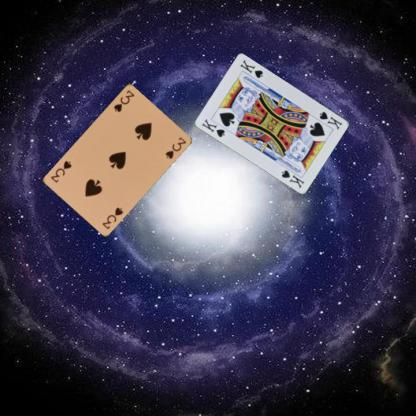3s: (111, 87, 136, 113), (100, 204, 124, 230)
Ks: (317, 109, 344, 131), (199, 116, 226, 138)
